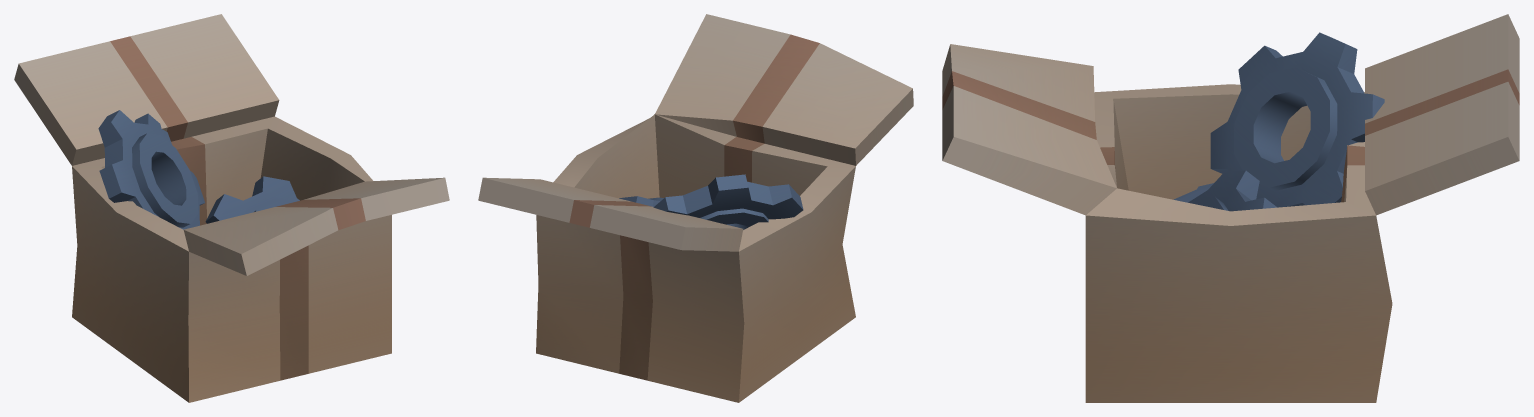
Rendered from PaperBox.fbx.
The picture shows the model from 3 angles, left to right: view 1: azimuth 30°, elevation 25°; view 2: azimuth 150°, elevation 25°; view 3: azimuth 270°, elevation 25°; orthographic projection. The views are drawn at different scales.
Visible parts, largest first — view 1: PaperBox, Gears; view 2: PaperBox, Gears; view 3: PaperBox, Gears.
Boxes of the visible parts, left/top/right/bottom form: PaperBox: left=14, top=14, right=449, bottom=402; Gears: left=98, top=110, right=299, bottom=229; PaperBox: left=478, top=14, right=913, bottom=402; Gears: left=619, top=174, right=803, bottom=229; PaperBox: left=942, top=14, right=1519, bottom=402; Gears: left=1173, top=32, right=1384, bottom=211.
Bounding box in the file's own units: 116 × 101 × 199.
